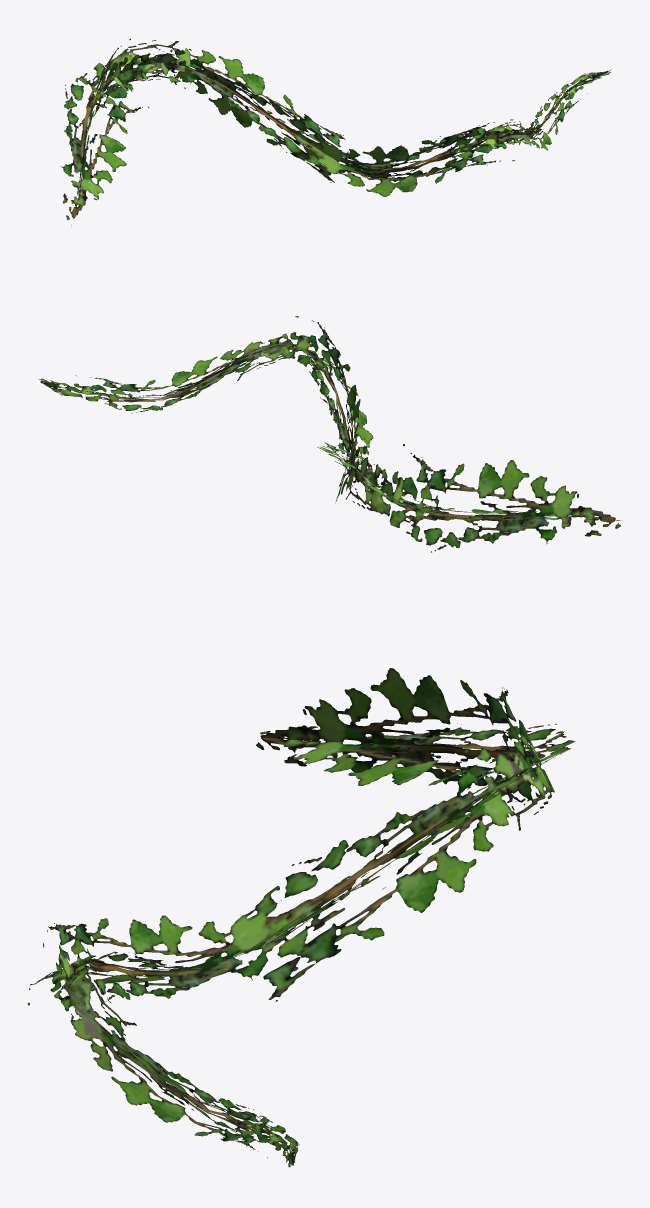
Rendered from jingjizhixing.FBX.
The picture shows the model from 3 angles, top to bottom: view 1: azimuth 30°, elevation 25°; view 2: azimuth 150°, elevation 25°; view 3: azimuth 270°, elevation 25°; orthographic projection. The views are drawn at different scales.
Parts seen in each view (by area): view 1: Plane004; view 2: Plane004; view 3: Plane004.
Boxes of the visible parts, x1,y1,x2,y2 form: Plane004: (60, 38, 610, 224); Plane004: (39, 316, 621, 552); Plane004: (27, 668, 575, 1166).
Bounding box in the file's own units: 115 × 32.25 × 62.52.
Materials: 1 (1 with a texture image).
